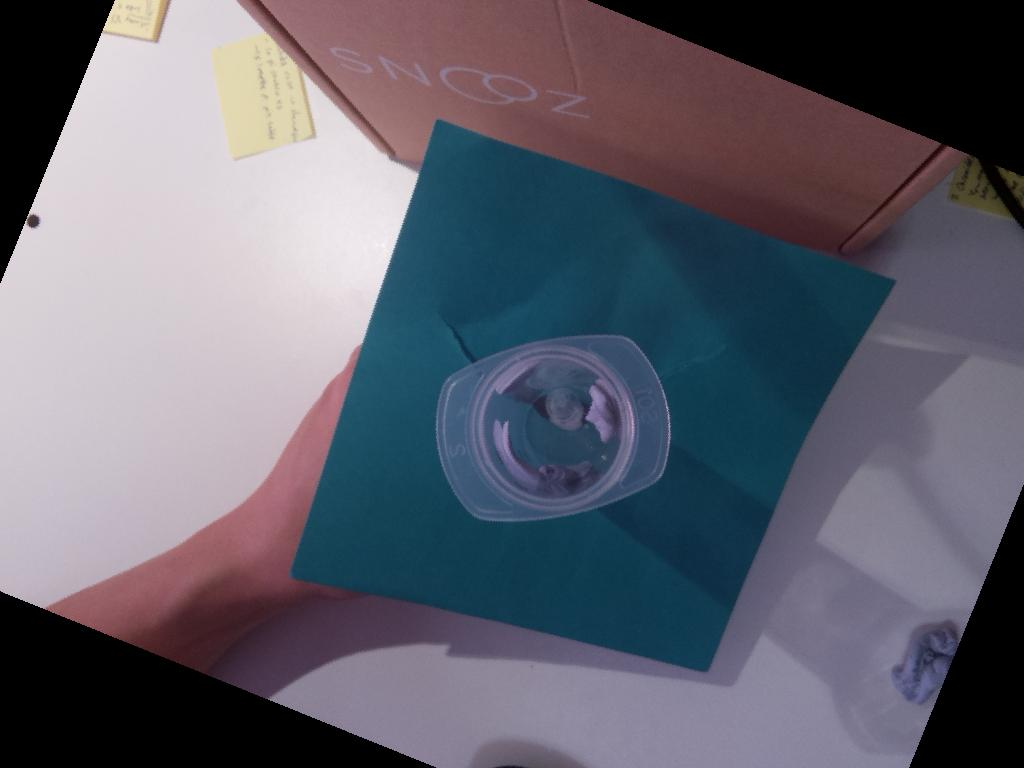dirty: (437, 334, 671, 523)
